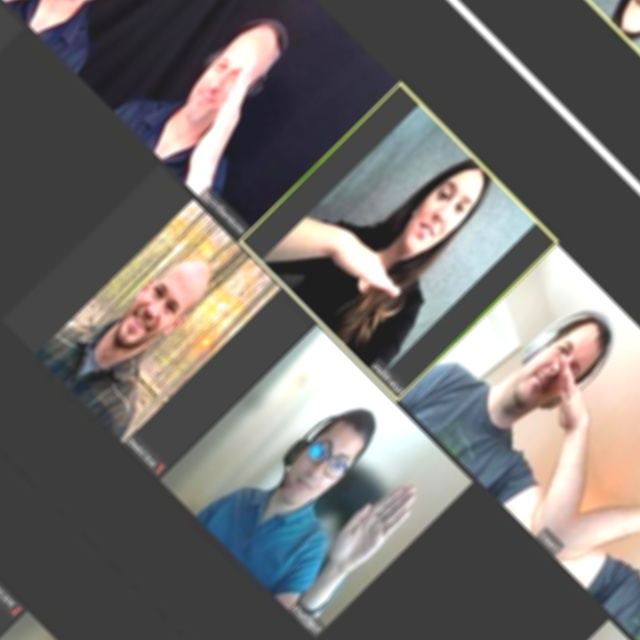Paper: (157, 51, 295, 188), (319, 467, 432, 579), (311, 214, 417, 320), (516, 344, 617, 445)
